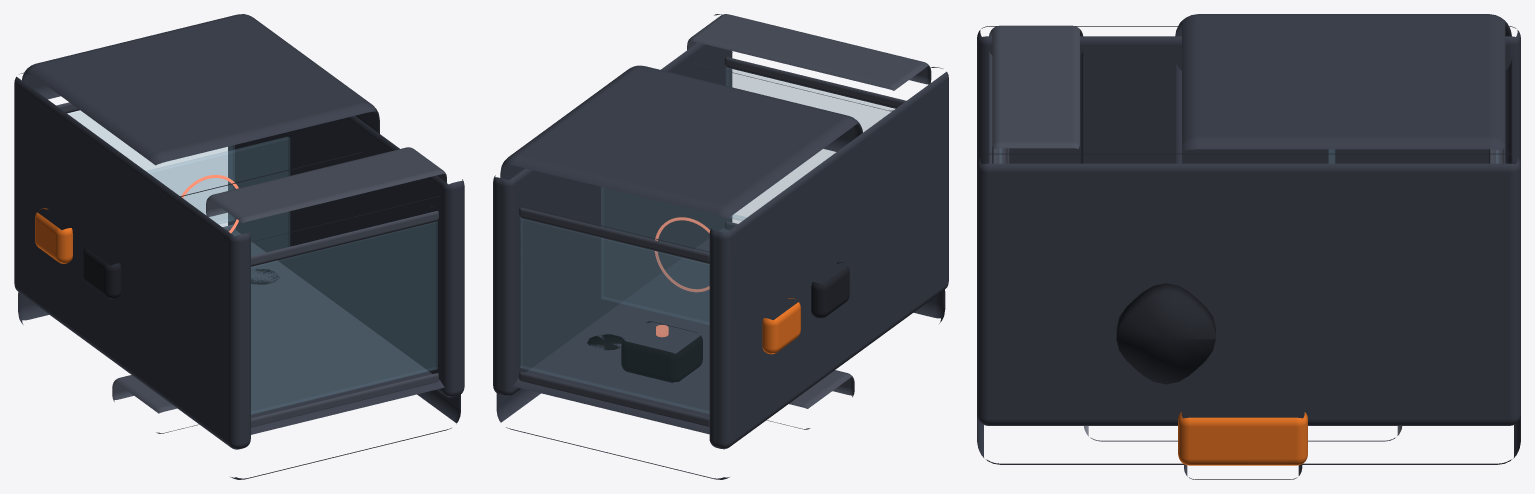
File: Sight_Holo.glb
The picture shows the model from 3 angles, left to right: view 1: azimuth 30°, elevation 25°; view 2: azimuth 150°, elevation 25°; view 3: azimuth 270°, elevation 25°; orthographic projection. The views are drawn at different scales.
Parts seen in each view (by area): view 1: Wall-1, Wall1, Roof, FrontGlass, Floor, RoofLip, HologramPlate, RearGlass, FrontFrameTop, FrontFrameBot, Button1, Button0 (+1 smaller); view 2: Wall-1, Roof, RearGlass, Wall1, Floor, HologramPlate, RoofLip, FrontGlass, LaserBox, RearFrameTop, FrontFrameTop, RearFrameBot (+4 smaller); view 3: Wall1, Roof, Wall-1, RoofLip, BatteryCap, QDLever, Floor.
Boxes of the visible parts, bbox=[...] form: Wall-1: bbox=[14, 72, 250, 449]; Wall1: bbox=[228, 116, 464, 397]; Roof: bbox=[22, 14, 379, 196]; FrontGlass: bbox=[251, 221, 437, 414]; Floor: bbox=[18, 230, 460, 479]; RoofLip: bbox=[206, 147, 446, 242]; HologramPlate: bbox=[146, 137, 289, 255]; RearGlass: bbox=[67, 110, 234, 223]; FrontFrameTop: bbox=[251, 206, 438, 266]; FrontFrameBot: bbox=[251, 369, 438, 427]; Button1: bbox=[83, 243, 121, 299]; Button0: bbox=[35, 208, 72, 263]; Wall-1: bbox=[709, 67, 948, 449]; Roof: bbox=[500, 65, 862, 252]; RearGlass: bbox=[520, 218, 709, 413]; Wall1: bbox=[493, 14, 732, 396]; Floor: bbox=[496, 227, 945, 479]; HologramPlate: bbox=[601, 187, 746, 324]; RoofLip: bbox=[687, 14, 931, 111]; FrontGlass: bbox=[726, 67, 894, 220]; LaserBox: bbox=[621, 321, 702, 382]; RearFrameTop: bbox=[519, 203, 709, 263]; FrontFrameTop: bbox=[724, 52, 906, 108]; RearFrameBot: bbox=[519, 371, 709, 426]; Wall1: bbox=[977, 153, 1520, 425]; Roof: bbox=[1175, 14, 1512, 163]; Wall-1: bbox=[977, 26, 1520, 164]; RoofLip: bbox=[989, 25, 1083, 163]; BatteryCap: bbox=[1116, 283, 1215, 384]; QDLever: bbox=[1178, 412, 1307, 465]; Floor: bbox=[977, 415, 1520, 464].
Size of the model in its own units: 0.0637 by 0.064 by 0.092.
